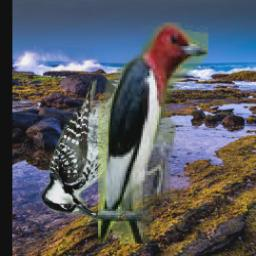Woodpecker: (98, 23, 208, 244), (43, 81, 135, 221)
